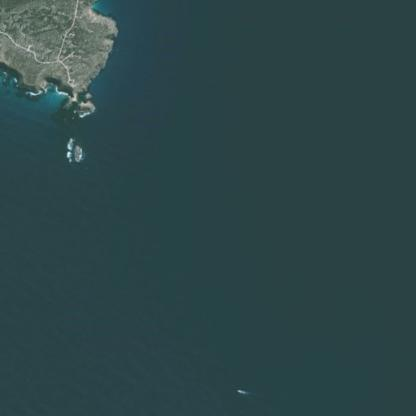ship: (228, 382, 250, 399)
